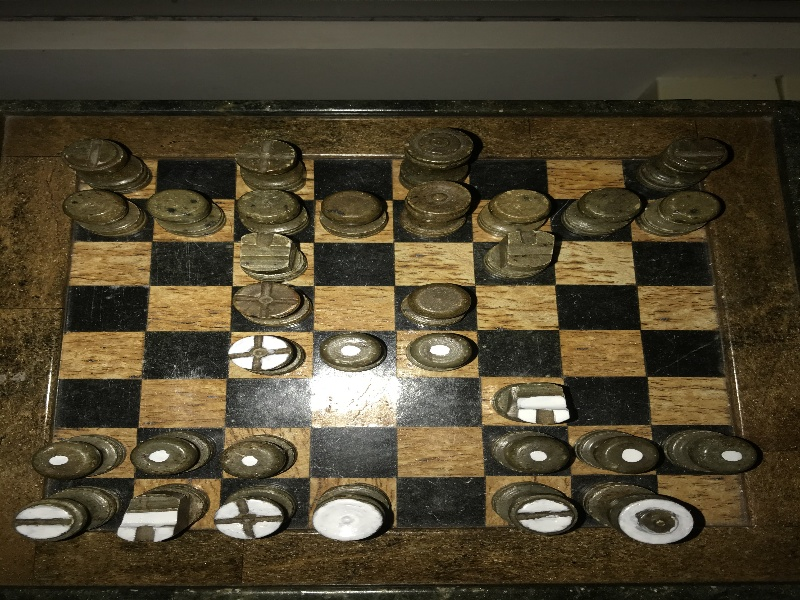WhiteBishop: (215, 485, 294, 539), (228, 336, 304, 376)
WhitePawn: (664, 428, 759, 475), (34, 435, 124, 478), (576, 429, 658, 475), (131, 432, 212, 474), (491, 430, 567, 474), (222, 436, 297, 478), (321, 332, 387, 372), (405, 333, 472, 371)
WhiteRook: (16, 486, 118, 542), (492, 482, 578, 535)
